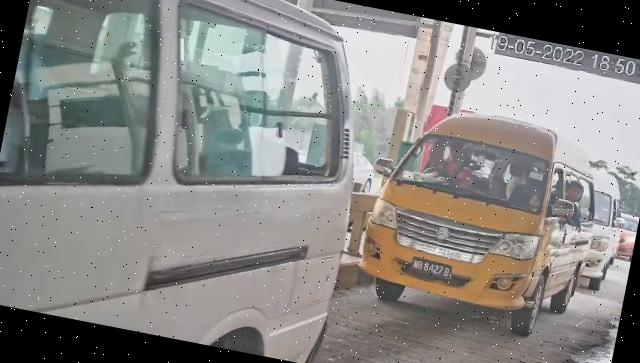License_Plate: (409, 254, 455, 284)
van: (352, 96, 611, 347)
